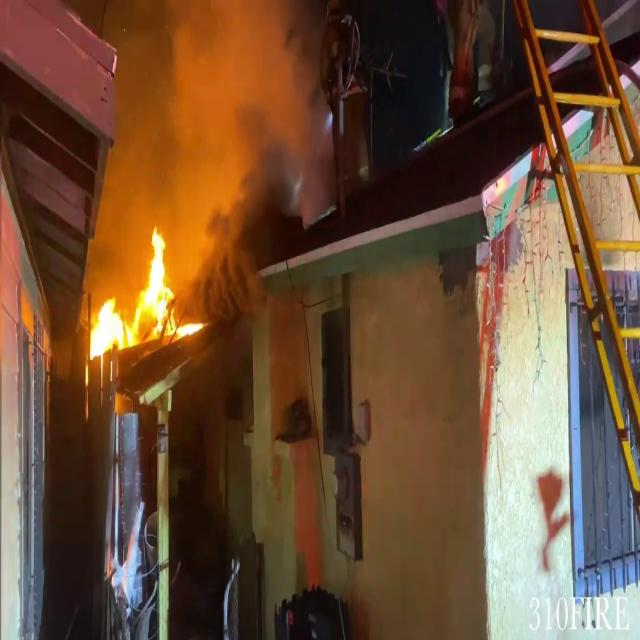Fire: (85, 225, 188, 367)
Smoke: (81, 0, 332, 258)
